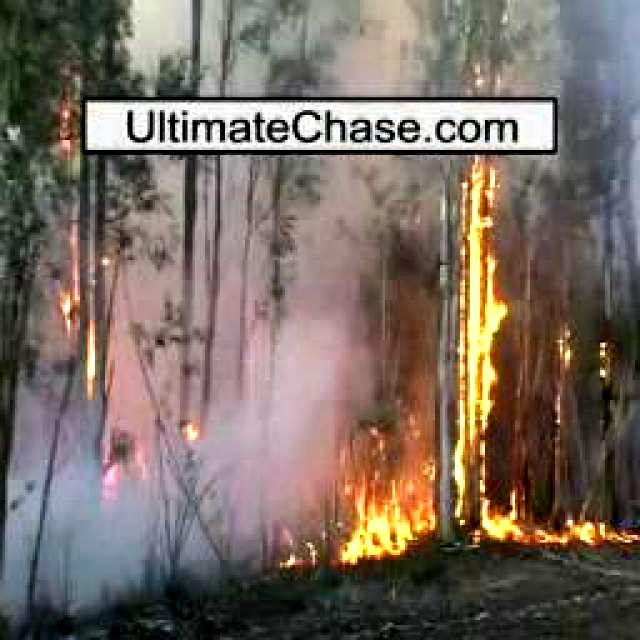fire: (336, 460, 640, 546), (460, 152, 494, 450), (54, 250, 106, 398), (548, 326, 576, 404), (51, 102, 84, 150), (592, 335, 616, 389)
